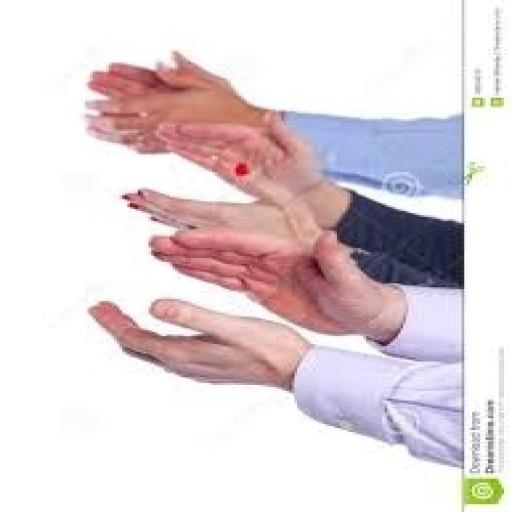clapping: (80, 49, 462, 467)
